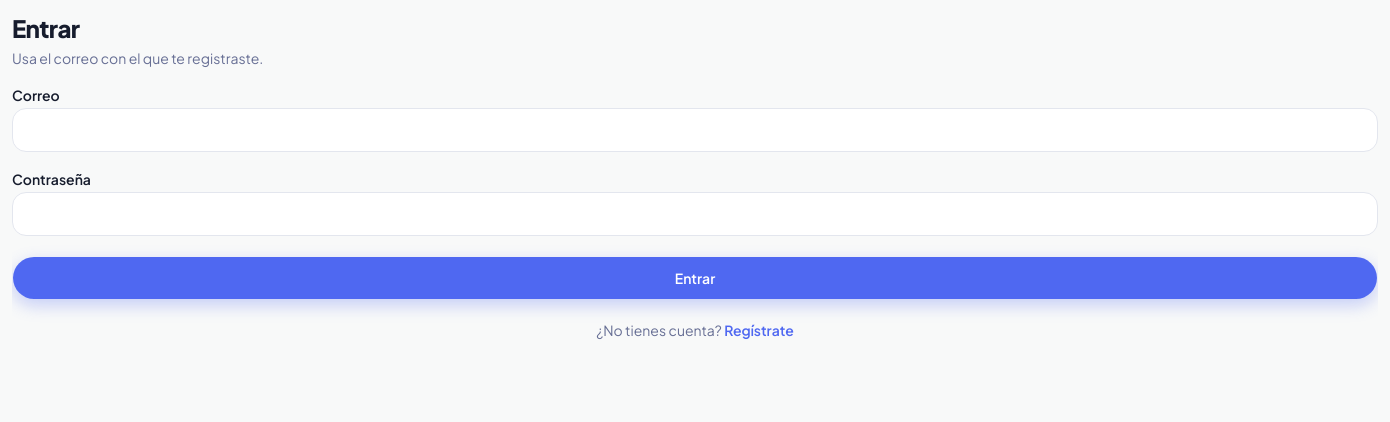
Test case: AuthForm › shows a wrong password as a root message, with no notice
In the field labelled "Correo": [695, 130] box [12,108,1378,152], type "ana@ejemplo.com"
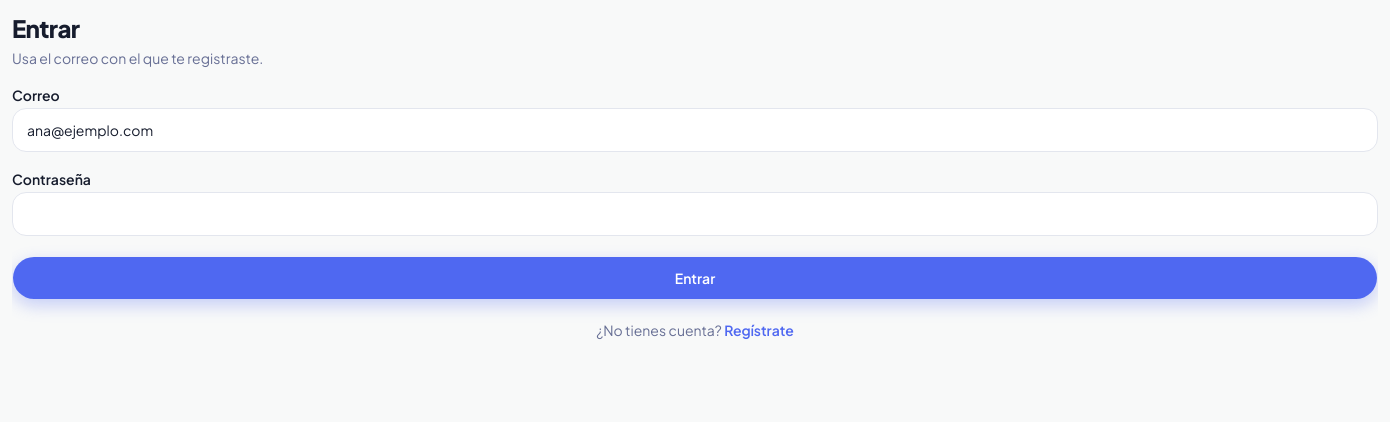
In the password field labelled "Contraseña": [695, 214] box [12,192,1378,236], type "unaClaveLarga"
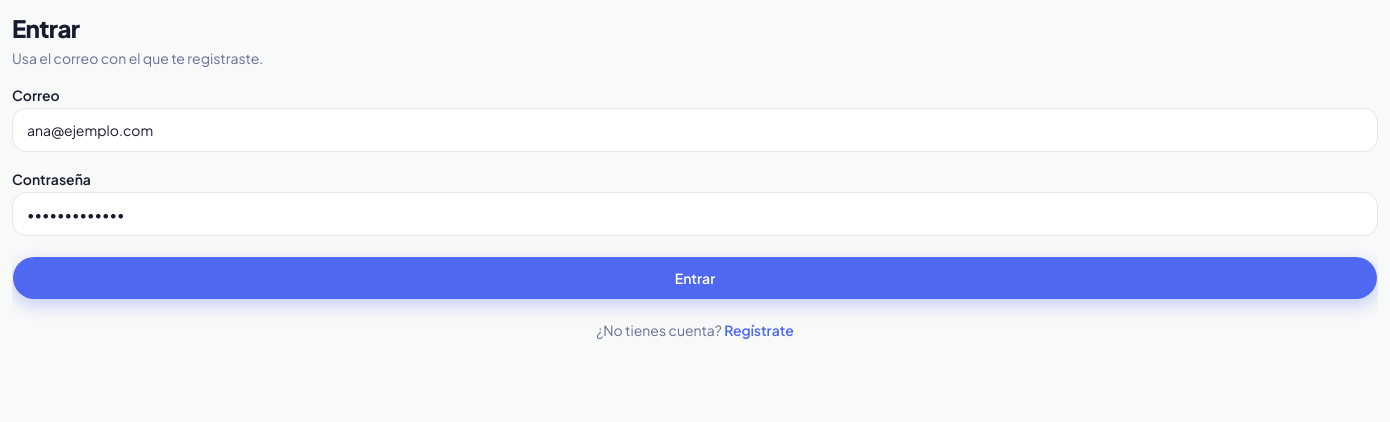
Click the button "Entrar": [695, 278] box [12,256,1378,300]
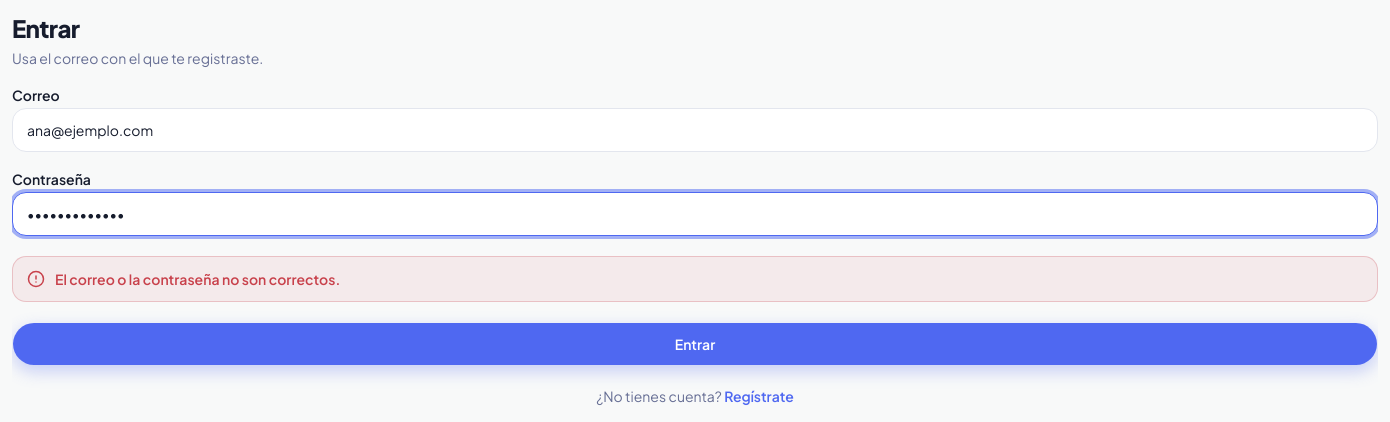
Result: the text "El correo o la contraseña no son correctos." is shown at [12,256,1378,302]
